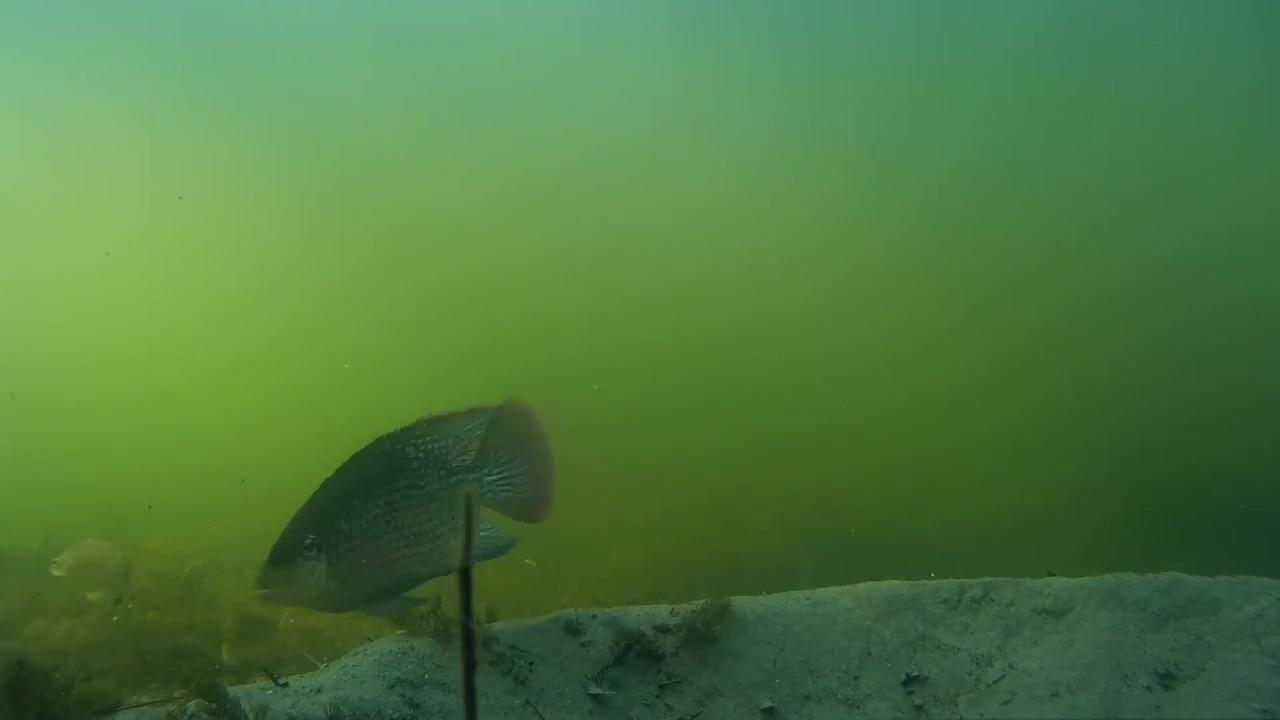Tilapia: (251, 396, 558, 616)
